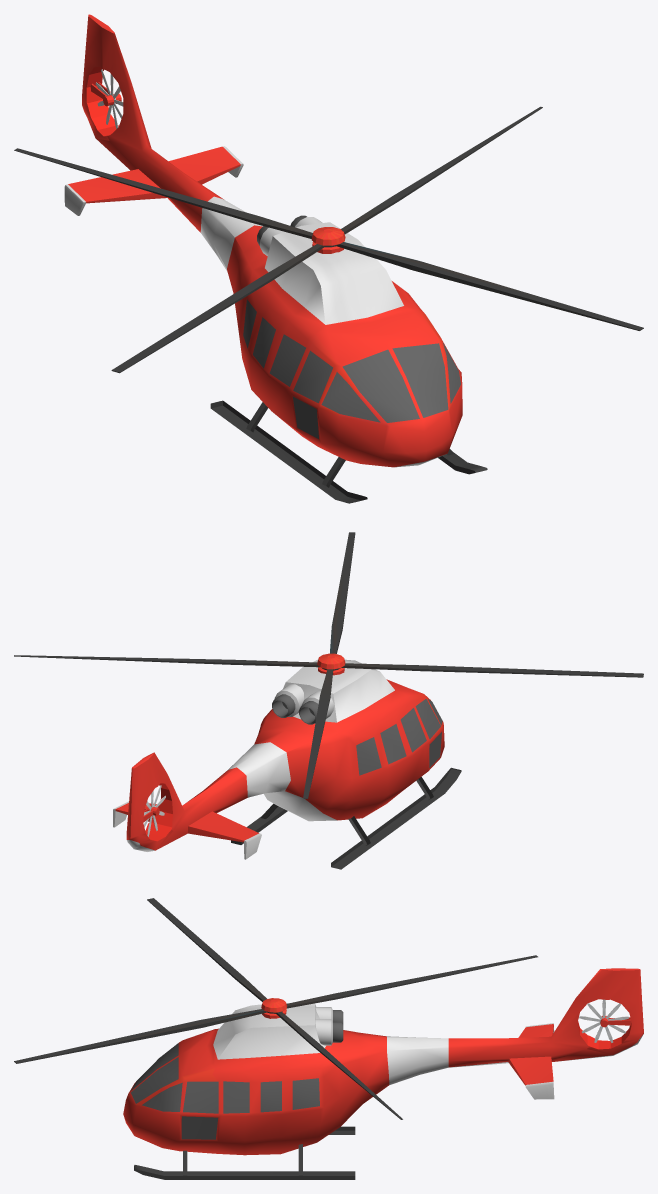
The model's file is helico.glb.
3 renders of one model, top to bottom at view 1: azimuth 30°, elevation 25°; view 2: azimuth 150°, elevation 25°; view 3: azimuth 270°, elevation 25°, orthographic. The views are drawn at different scales.
Visible parts, largest first — view 1: corps, rotor; view 2: corps, rotor; view 3: corps, rotor, helice_q.
Part boxes in pixels (x1=…): corps: x1=64, y1=14, x2=487, y2=503; rotor: x1=14, y1=106, x2=643, y2=373; corps: x1=113, y1=659, x2=461, y2=869; rotor: x1=14, y1=532, x2=643, y2=798; corps: x1=123, y1=968, x2=643, y2=1179; rotor: x1=14, y1=898, x2=537, y2=1119; helice_q: x1=579, y1=999, x2=628, y2=1042.
Size of the model in its own units: 10.65 by 4.16 by 12.8.
Materials: 1 (1 with a texture image).
